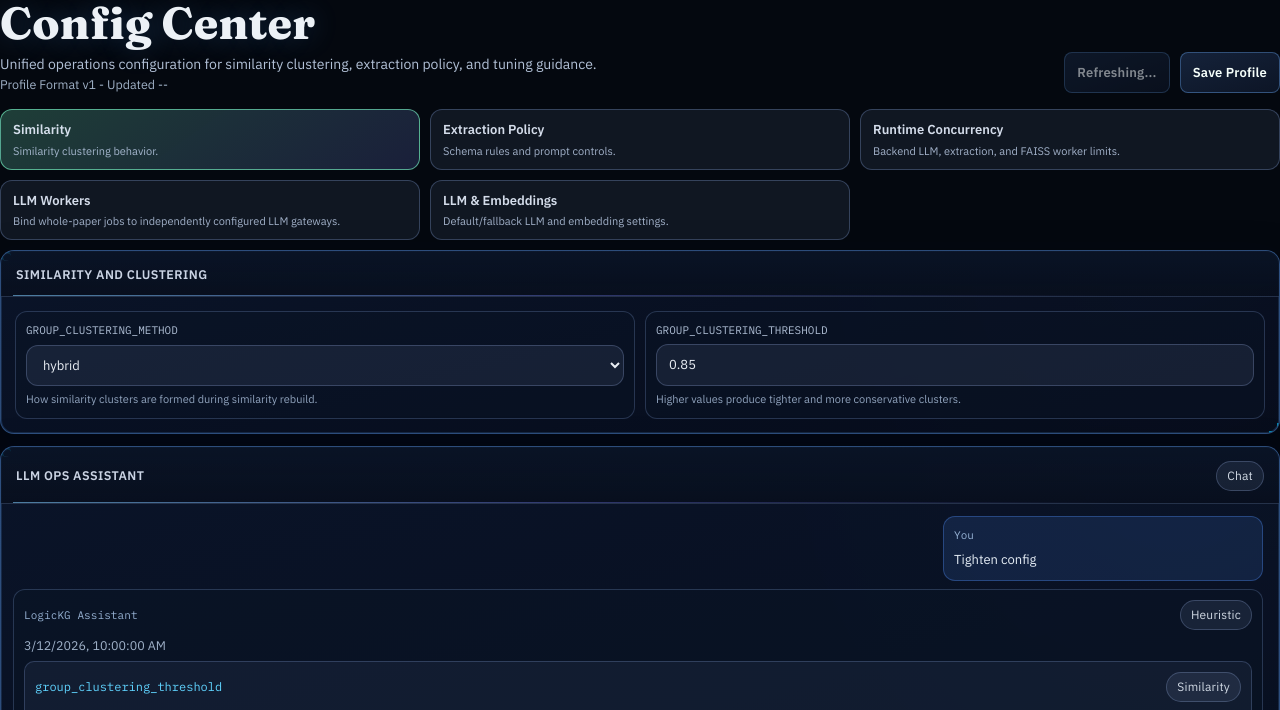
Test case: ConfigCenterPage discovery retirement › focuses providers on embeddings only
Expected: the heading "Config Center" is shown, [0,0,316,50]
Click the button "LLM & Embeddings" at (500, 200), box [430,180,850,240]
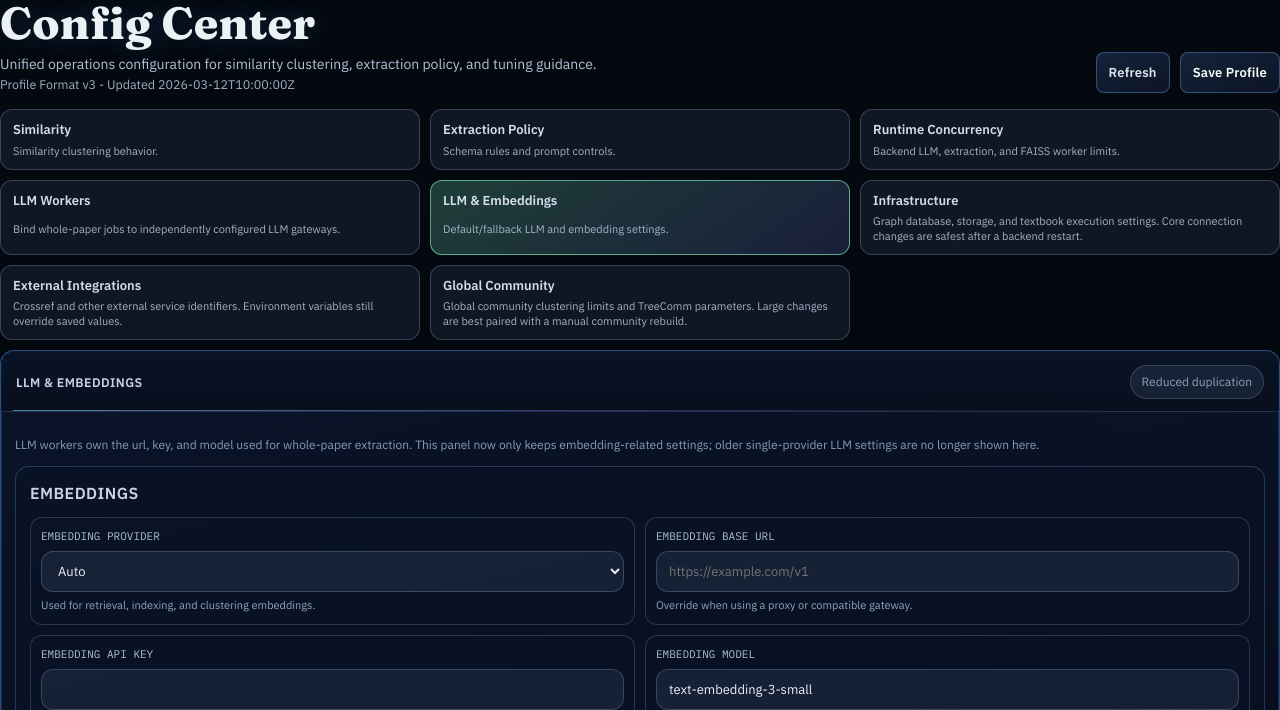
Expected: the text "Embeddings" is shown, [30,481,139,505]
